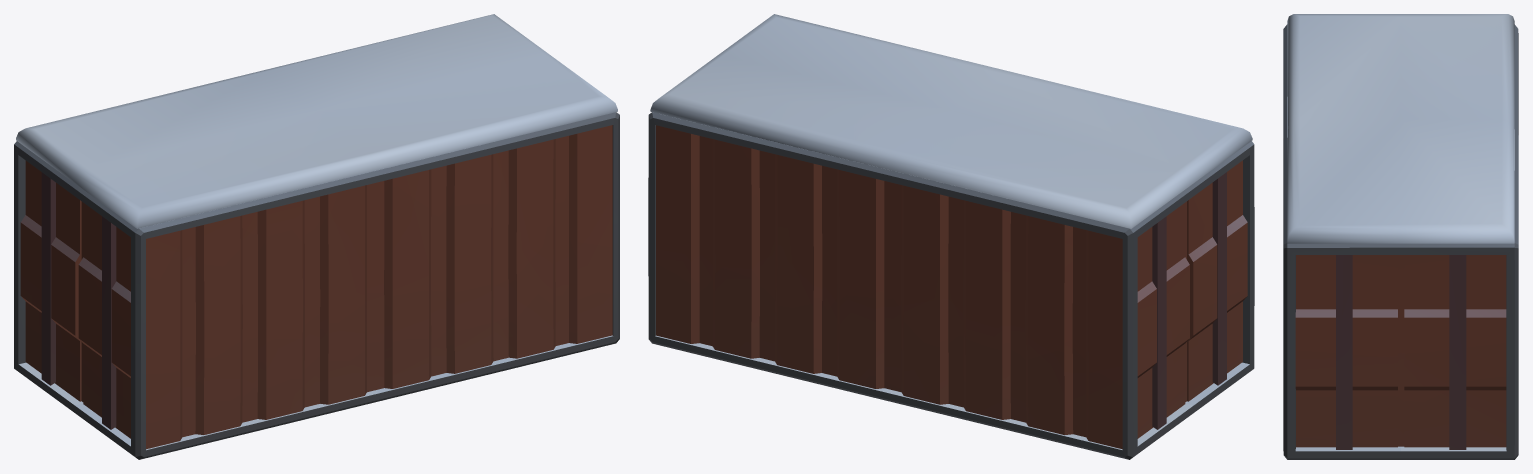
Rendered from container_red.glb.
The picture shows the model from 3 angles, left to right: view 1: azimuth 30°, elevation 25°; view 2: azimuth 150°, elevation 25°; view 3: azimuth 270°, elevation 25°; orthographic projection. The views are drawn at different scales.
Visible parts, largest first — view 1: Prop; view 2: Prop; view 3: Prop.
Boxes of the visible parts, <box> form: Prop: <box>14,14,619,459</box>; Prop: <box>648,14,1254,459</box>; Prop: <box>1283,14,1518,459</box>.
Bounding box in the file's own units: 5.71 × 2.78 × 2.56.
